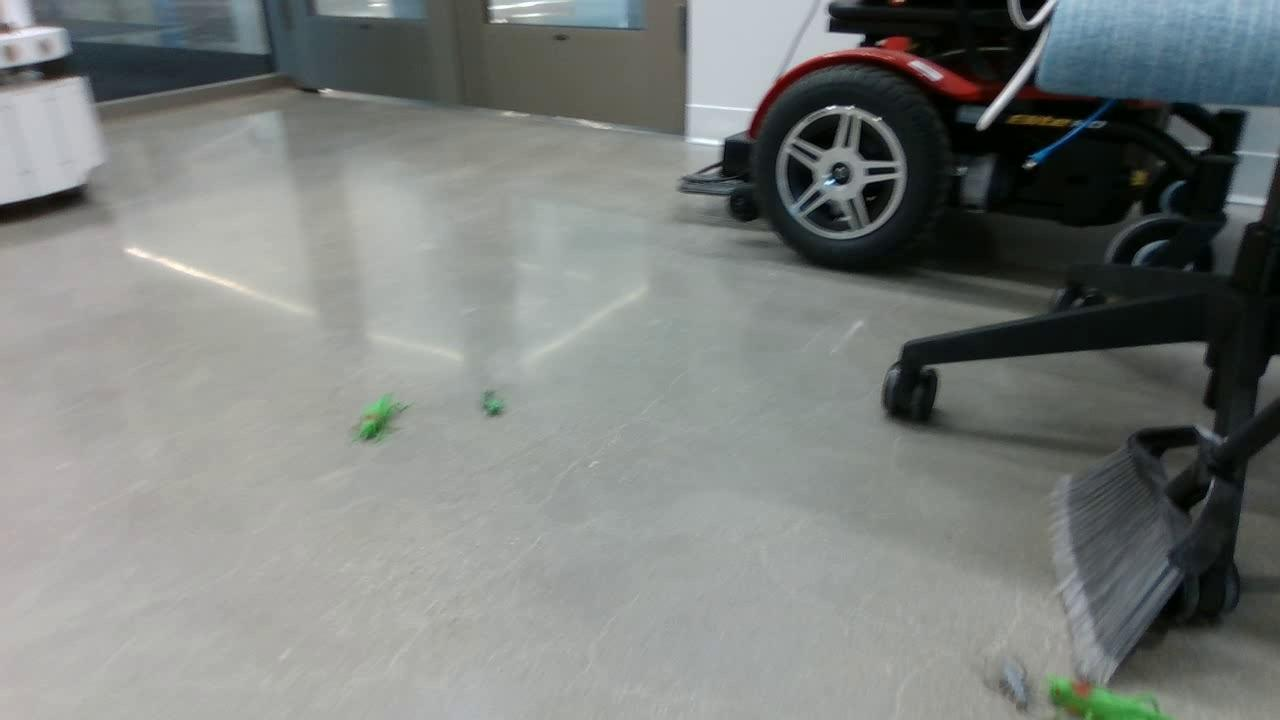grasshopper: (1045, 666, 1160, 719), (349, 396, 412, 445)
